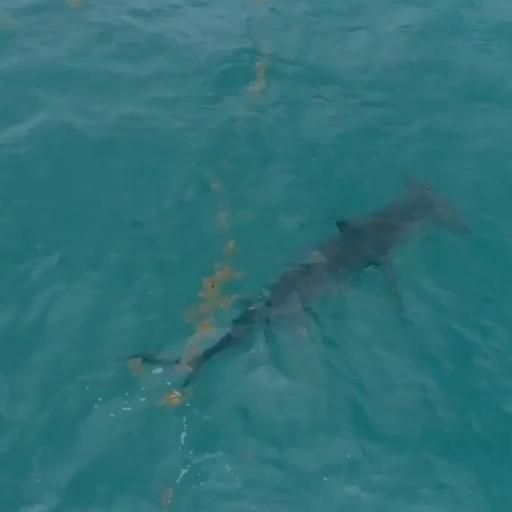shark: (121, 174, 476, 392)
